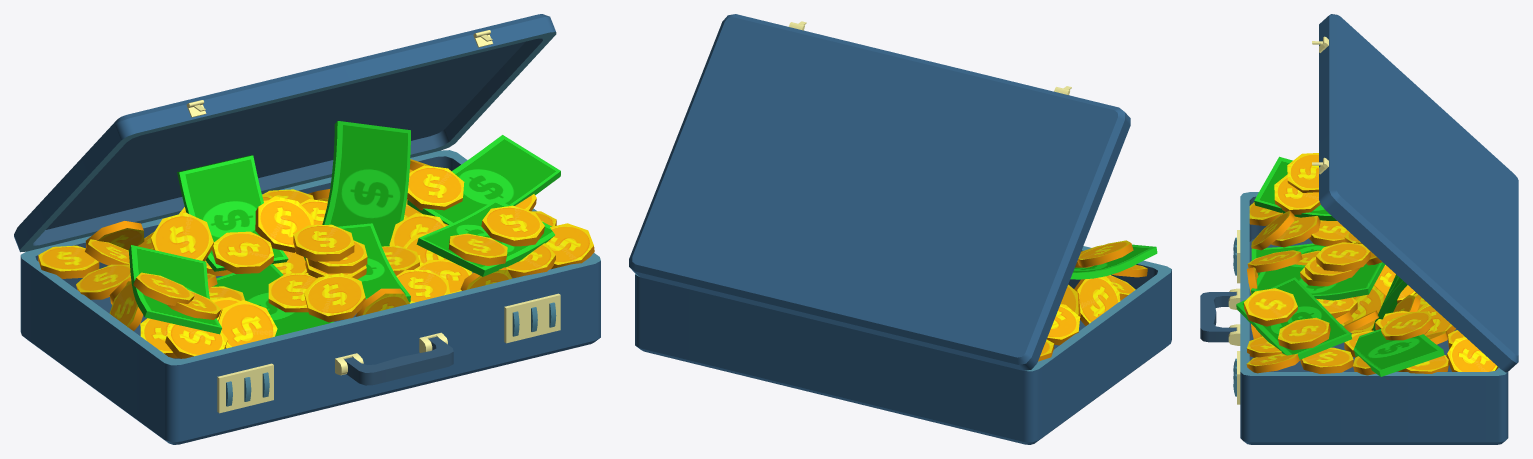
Rendered from money_case.fbx.
3 renders of one model, left to right at view 1: azimuth 30°, elevation 25°; view 2: azimuth 150°, elevation 25°; view 3: azimuth 270°, elevation 25°, orthographic. The views are drawn at different scales.
Visible parts, largest first — view 1: pCube1, pCube3, extracted_06, extracted_04, extracted_02, extracted_01, extracted_03, extracted_07, pCylinder41, pCylinder9, pCylinder11, pCylinder10 (+25 smaller); view 2: pCube3, pCube1, pCylinder37, extracted_01, pCylinder3, pCylinder45; view 3: pCube3, pCube1, extracted_04, extracted_03, extracted_05, pCylinder7, pCylinder8, pCylinder6, extracted_01, pCylinder20, pCylinder59, pCylinder1 (+19 smaller).
Part boxes in pixels (bbox=[...]): pCube1: bbox=[20, 150, 600, 444]; pCube3: bbox=[14, 14, 556, 252]; extracted_06: bbox=[322, 121, 410, 246]; extracted_04: bbox=[407, 135, 560, 224]; extracted_02: bbox=[177, 155, 288, 271]; extracted_01: bbox=[128, 245, 221, 334]; extracted_03: bbox=[416, 199, 554, 276]; extracted_07: bbox=[212, 264, 333, 336]; pCylinder41: bbox=[304, 273, 365, 322]; pCylinder9: bbox=[151, 212, 213, 261]; pCylinder11: bbox=[255, 196, 313, 252]; pCylinder10: bbox=[212, 231, 273, 273]; pCube3: bbox=[629, 14, 1130, 370]; pCube1: bbox=[635, 246, 1171, 444]; pCylinder37: bbox=[1074, 276, 1120, 325]; extracted_01: bbox=[1070, 244, 1157, 279]; pCylinder3: bbox=[1077, 240, 1133, 267]; pCylinder45: bbox=[1047, 304, 1080, 345]; pCube3: bbox=[1312, 14, 1518, 372]; pCube1: bbox=[1200, 192, 1508, 444]; extracted_04: bbox=[1353, 328, 1444, 376]; extracted_03: bbox=[1236, 277, 1351, 359]; extracted_05: bbox=[1251, 262, 1385, 300]; pCylinder7: bbox=[1244, 288, 1297, 326]; pCylinder8: bbox=[1278, 317, 1330, 350]; pCylinder6: bbox=[1316, 242, 1370, 271]; extracted_01: bbox=[1254, 156, 1336, 220]; pCylinder20: bbox=[1446, 337, 1498, 371]; pCylinder59: bbox=[1381, 311, 1434, 340]; pCylinder1: bbox=[1274, 174, 1320, 214].
Bounding box in the file's own units: 3.02 × 1.79 × 2.03.
